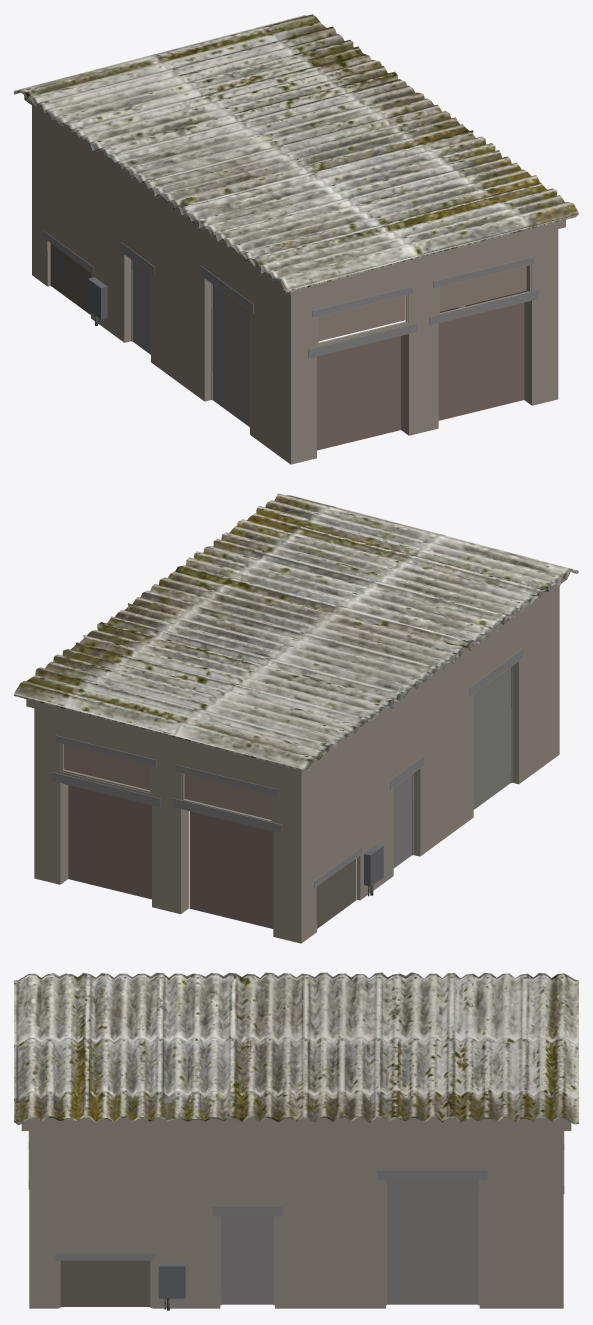
Rendered from garage.lod0.glb.
3 renders of one model, top to bottom at view 1: azimuth 30°, elevation 25°; view 2: azimuth 150°, elevation 25°; view 3: azimuth 270°, elevation 25°, orthographic. The views are drawn at different scales.
Parts seen in each view (by area): view 1: Box001_Material #2100603827_0, Box001_Material #2100603824_0; view 2: Box001_Material #2100603827_0, Box001_Material #2100603824_0; view 3: Box001_Material #2100603827_0, Box001_Material #2100603824_0.
Boxes of the visible parts, x1,y1,x2,y2 form: Box001_Material #2100603827_0: (24,97,565,464); Box001_Material #2100603824_0: (14,14,578,292); Box001_Material #2100603827_0: (26,578,567,943); Box001_Material #2100603824_0: (14,493,578,771); Box001_Material #2100603827_0: (21,1116,571,1308); Box001_Material #2100603824_0: (14,972,578,1124).
Size of the model in its own units: 5.07 by 3.11 by 8.
Materials: 3 (2 with a texture image).
